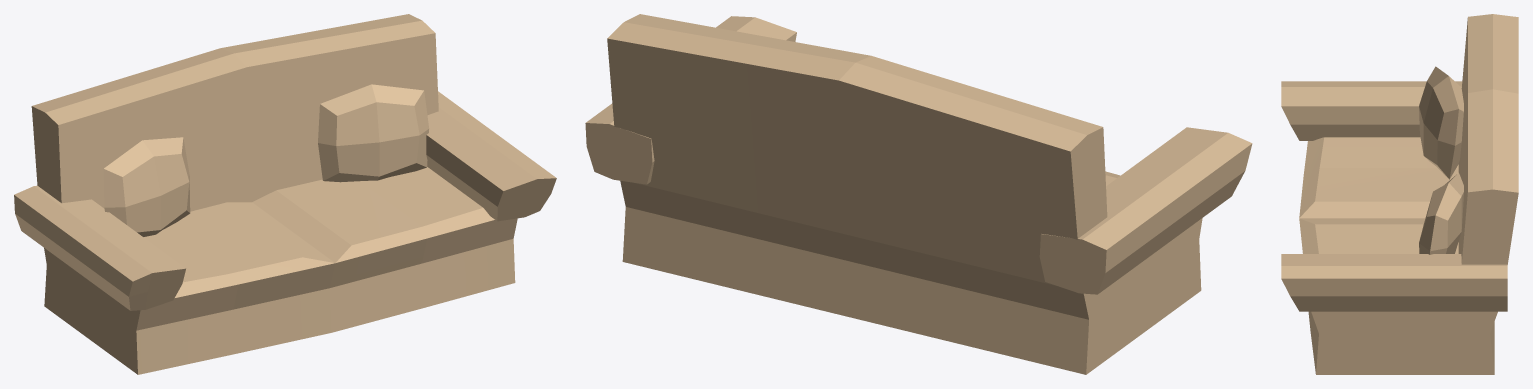
File: sofa.glb
The picture shows the model from 3 angles, left to right: view 1: azimuth 30°, elevation 25°; view 2: azimuth 150°, elevation 25°; view 3: azimuth 270°, elevation 25°; orthographic projection. The views are drawn at different scales.
Parts seen in each view (by area): view 1: sofa; view 2: sofa; view 3: sofa.
Boxes of the visible parts, bbox=[...] form: sofa: bbox=[14, 14, 556, 374]; sofa: bbox=[585, 14, 1252, 374]; sofa: bbox=[1281, 14, 1518, 374].
Bounding box in the file's own units: 2.25 × 1.05 × 1.14.
1 material, 1 textured.
